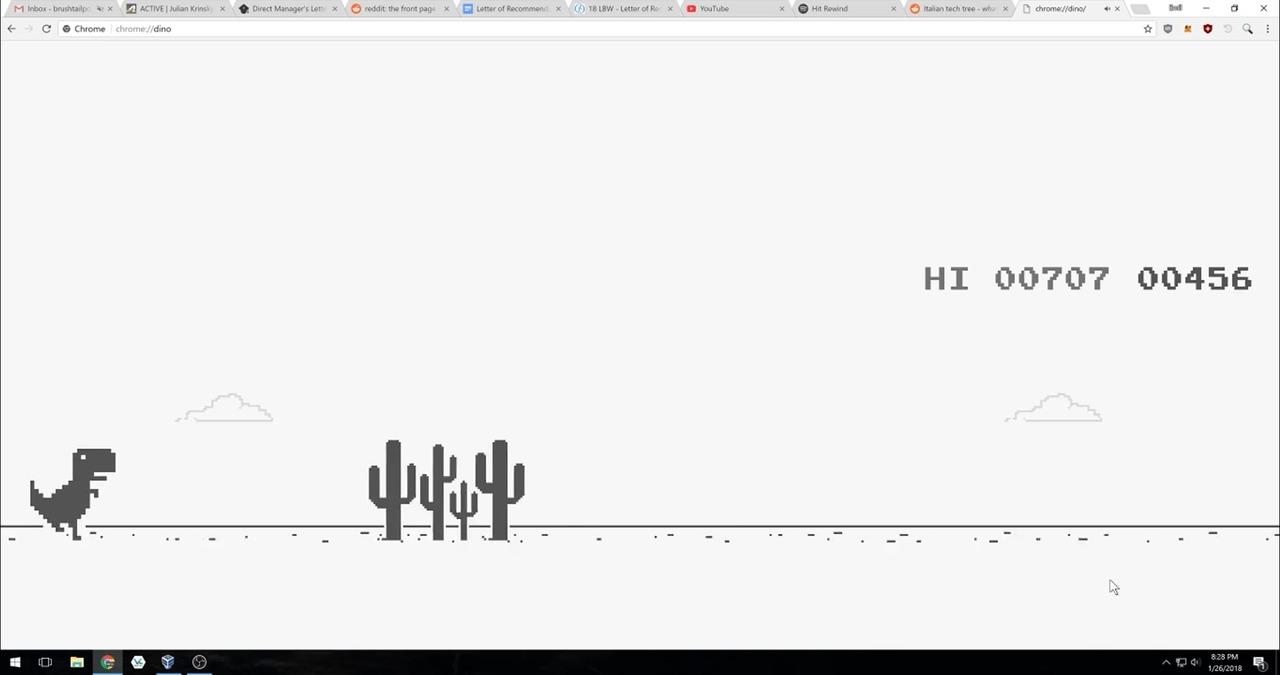cactus: (365, 435, 528, 543)
dinosaur: (28, 443, 118, 542)
